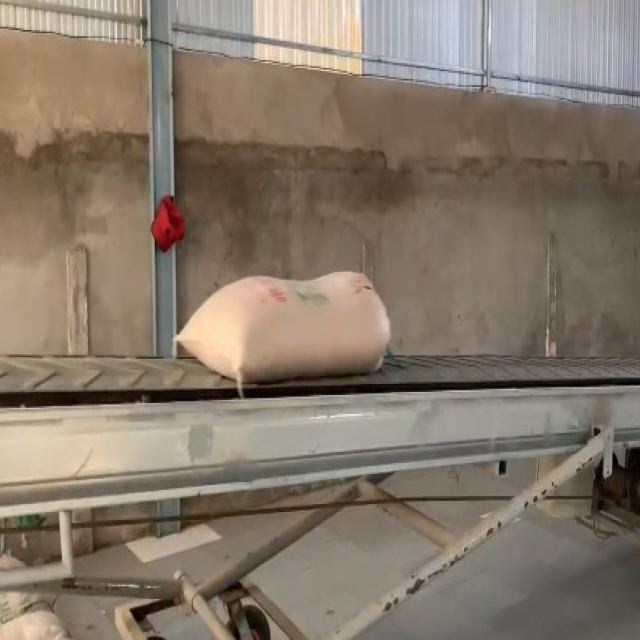gunny_bag: (177, 272, 391, 394)
